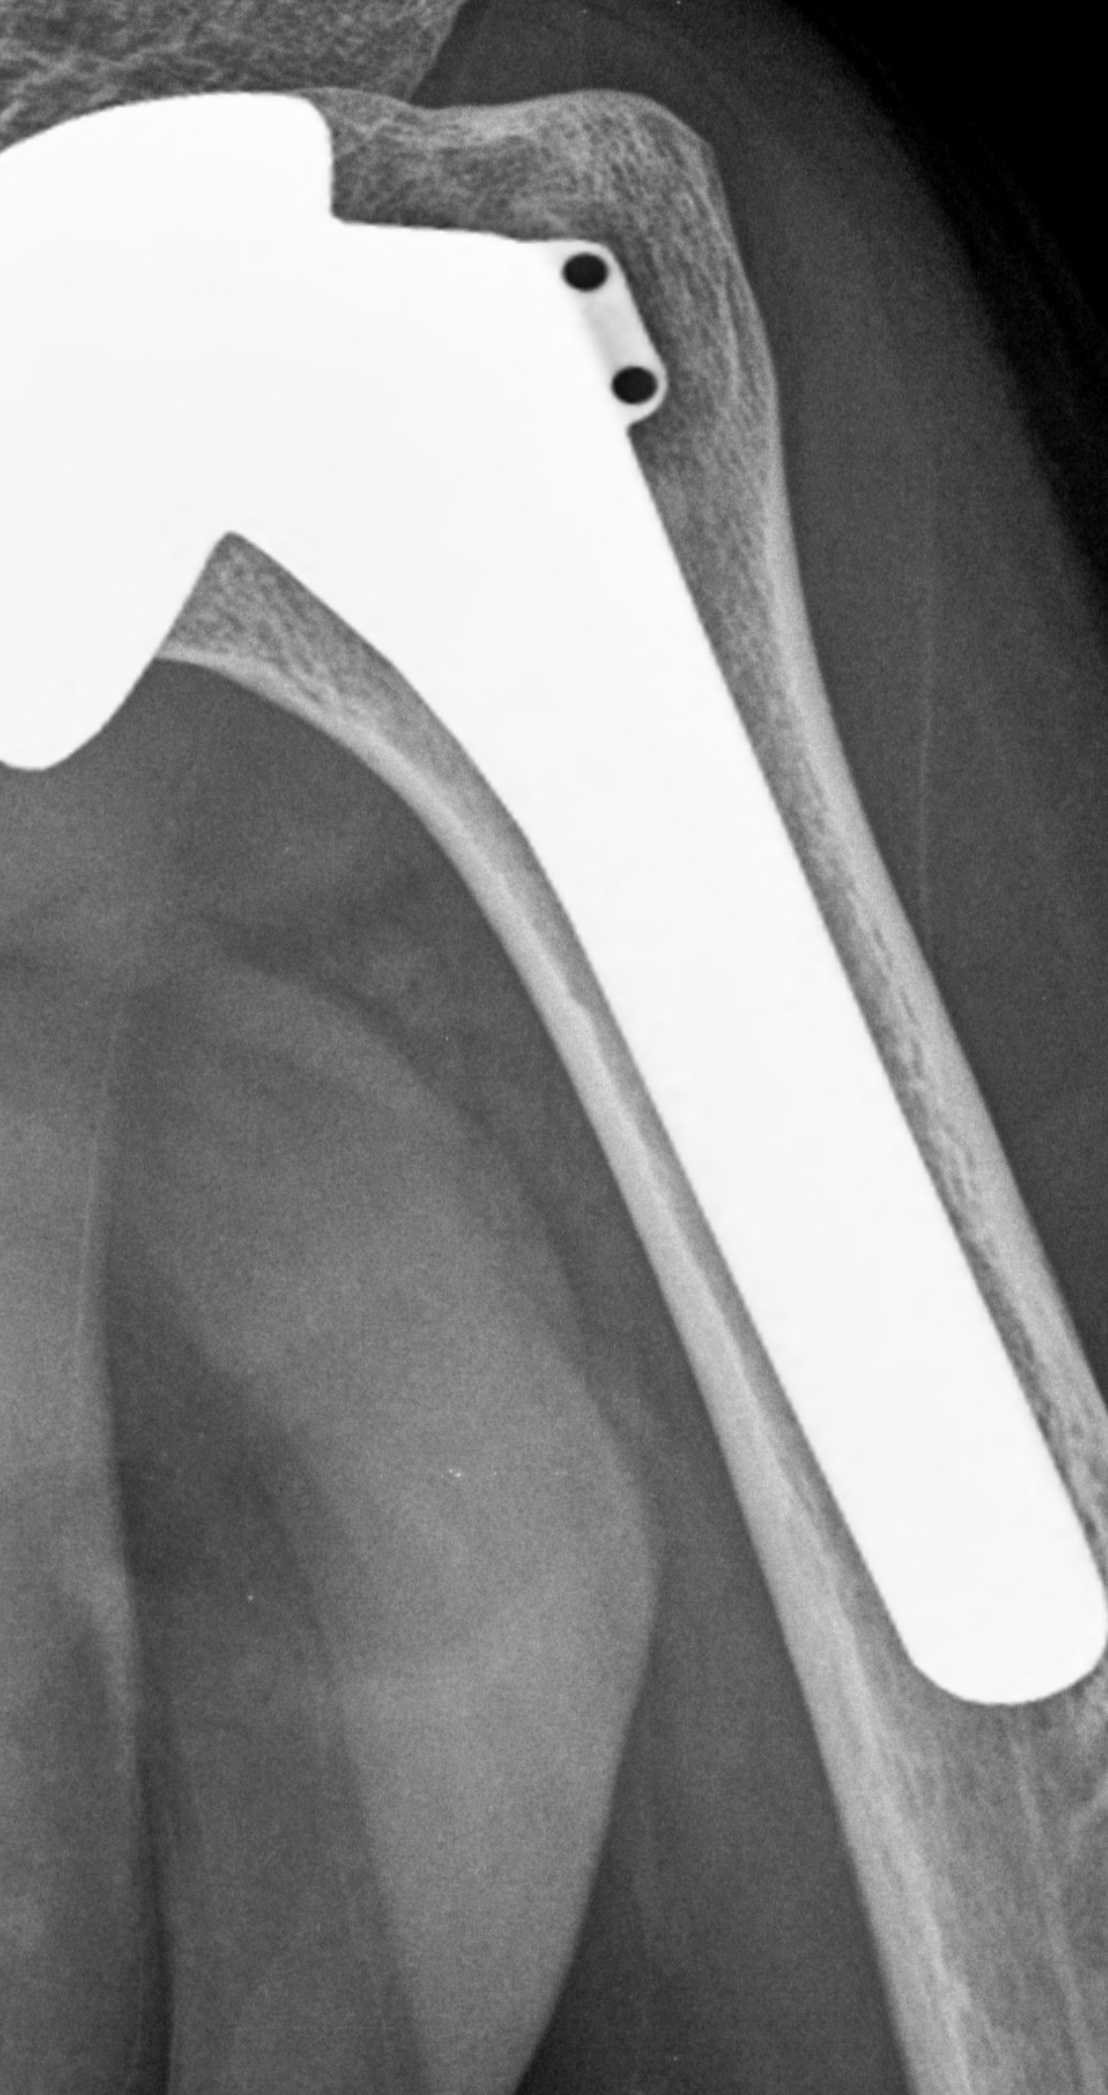Shoulder - AequalisPressfit - Tornier: (1, 79, 691, 795)
